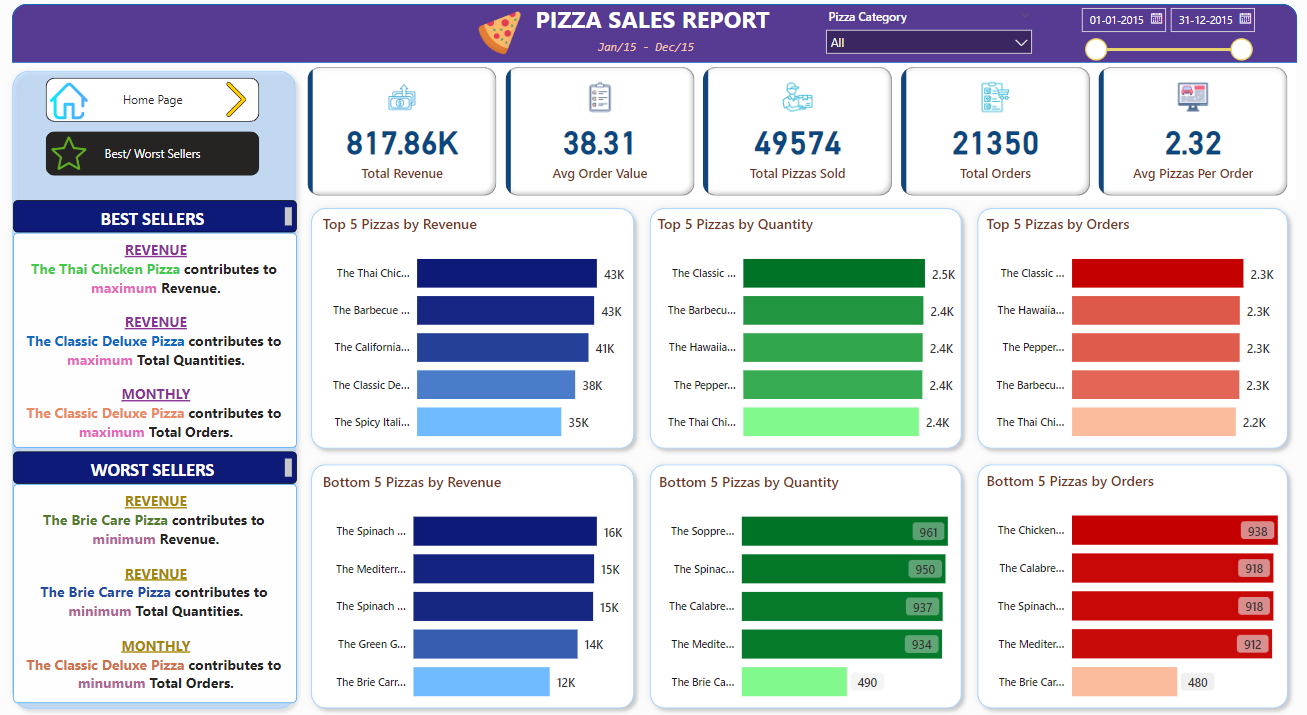

The page's visual inventory and layout, read from the dashboard file:
{"tool":"powerbi","page":{"name":"Best/ Worst Sellers","canvas":[1500,820],"ordinal":1},"visuals":[{"type":"shape","box":[8.6,72.9,341.4,747.1],"z":0},{"type":"cardVisual","fields":{"Data":["pizza_sales.Total Revenue","pizza_sales.Avg Order Value","pizza_sales.Total Pizzas Sold","pizza_sales.Total Orders","pizza_sales.Avg Pizzas Per Order"]},"box":[350,72.9,1134.3,157.1],"z":1000},{"type":"shape","box":[17.1,5.7,1468.6,67.1],"z":2000},{"type":"textbox","box":[605.7,0,287.1,45.7],"z":3000},{"type":"textbox","box":[681.4,40,135.7,28.6],"z":4000},{"type":"image","box":[542.9,8.6,62.9,60],"z":5000},{"type":"shape","box":[1111.4,230,372.9,292.9],"z":6000},{"type":"textbox","box":[18.6,230,324.3,37.1],"z":7000},{"type":"textbox","box":[18.6,267.1,324.3,245.7],"z":8000},{"type":"textbox","box":[18.6,517.1,324.3,37.1],"z":9000},{"type":"textbox","box":[18.6,554.3,324.3,250],"z":10000},{"type":"slicer","fields":{"Values":["pizza_sales.pizza_category"]},"box":[937.1,5.7,255.7,67.1],"z":11000},{"type":"slicer","fields":{"Values":["pizza_sales.order_date"]},"box":[1227.1,0,215.7,80],"z":12000},{"type":"shape","box":[737.1,230,374.3,292.9],"z":13000},{"type":"shape","box":[350,230,387.1,292.9],"z":14000},{"type":"shape","box":[350,522.9,387.1,297.1],"z":15000},{"type":"shape","box":[737.1,522.9,374.3,297.1],"z":16000},{"type":"shape","box":[1111.4,522.9,372.9,297.1],"z":17000},{"type":"barChart","title":"Top 5 Pizzas by Revenue","fields":{"Category":["pizza_sales.pizza_name"],"Y":["pizza_sales.Total Revenue"]},"box":[367.1,245.7,401.4,277.1],"z":18000},{"type":"barChart","title":"Bottom 5 Pizzas by Revenue","fields":{"Category":["pizza_sales.pizza_name"],"Y":["pizza_sales.Total Revenue"]},"box":[367.1,540,382.9,280],"z":19000},{"type":"barChart","title":"Top 5 Pizzas by Quantity","fields":{"Category":["pizza_sales.pizza_name"],"Y":["pizza_sales.Total Pizzas Sold"]},"box":[750,245.7,361.4,277.1],"z":20000},{"type":"barChart","title":"Bottom 5 Pizzas by Quantity","fields":{"Category":["pizza_sales.pizza_name"],"Y":["pizza_sales.Total Pizzas Sold"]},"box":[751.4,540,350,280],"z":21000},{"type":"barChart","title":"Top 5 Pizzas by Orders","fields":{"Category":["pizza_sales.pizza_name"],"Y":["pizza_sales.Total Orders"]},"box":[1125.7,245.7,360,277.1],"z":22000},{"type":"barChart","title":"Bottom 5 Pizzas by Orders","fields":{"Category":["pizza_sales.pizza_name"],"Y":["pizza_sales.Total Orders"]},"box":[1125.7,538.6,358.6,281.4],"z":23000},{"type":"pageNavigator","box":[55.7,90,244.3,50],"z":23001},{"type":"pageNavigator","box":[55.7,151.4,244.3,50],"z":23002},{"type":"image","box":[55.7,90,52.9,52.9],"z":23003},{"type":"image","box":[247.1,90,52.9,50],"z":23004},{"type":"image","box":[55.7,151.4,52.9,50],"z":23005}]}

Visuals, with their boxes in screenshot pixels (x1, y1, x2, y2), scaled from the page's 1500x820 canvas onto the 1307x715 screenshot:
shape: [7, 64, 305, 714]
cardVisual - pizza_sales.Total Revenue x pizza_sales.Avg Order Value: [305, 64, 1293, 201]
shape: [15, 5, 1295, 63]
textbox: [528, 0, 778, 40]
textbox: [594, 35, 712, 60]
image: [473, 7, 528, 60]
shape: [968, 201, 1293, 456]
textbox: [16, 201, 299, 233]
textbox: [16, 233, 299, 447]
textbox: [16, 451, 299, 483]
textbox: [16, 483, 299, 701]
slicer - pizza_sales.pizza_category: [817, 5, 1039, 63]
slicer - pizza_sales.order_date: [1069, 0, 1257, 70]
shape: [642, 201, 968, 456]
shape: [305, 201, 642, 456]
shape: [305, 456, 642, 714]
shape: [642, 456, 968, 714]
shape: [968, 456, 1293, 714]
"Top 5 Pizzas by Revenue" barChart: [320, 214, 670, 456]
"Bottom 5 Pizzas by Revenue" barChart: [320, 471, 654, 714]
"Top 5 Pizzas by Quantity" barChart: [654, 214, 968, 456]
"Bottom 5 Pizzas by Quantity" barChart: [655, 471, 960, 714]
"Top 5 Pizzas by Orders" barChart: [981, 214, 1295, 456]
"Bottom 5 Pizzas by Orders" barChart: [981, 470, 1293, 714]
pageNavigator: [49, 78, 261, 122]
pageNavigator: [49, 132, 261, 176]
image: [49, 78, 95, 125]
image: [215, 78, 261, 122]
image: [49, 132, 95, 176]
